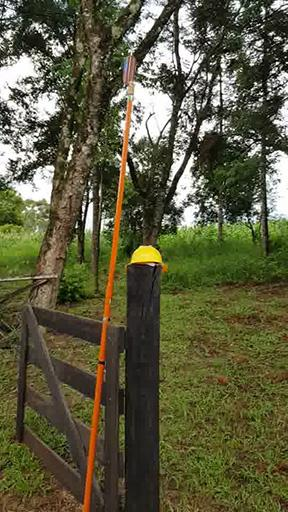Detector_Tensao_Contato: (121, 45, 137, 86)
Vara_Manobra: (83, 85, 136, 512)
